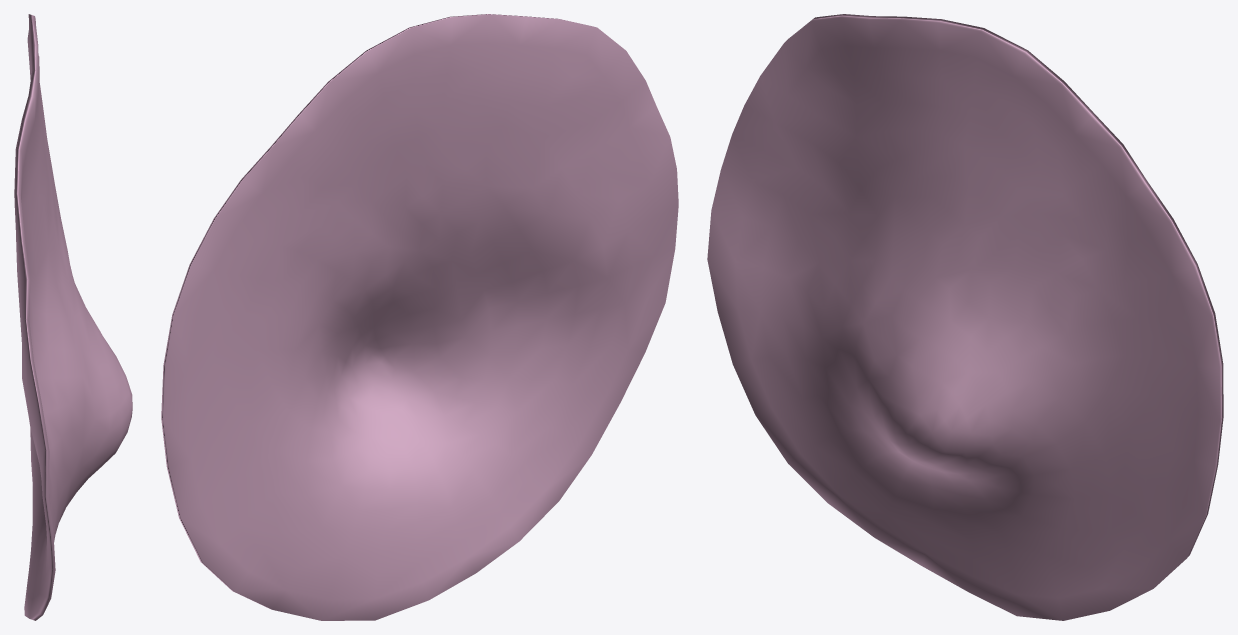
3 views of the same model, side by side, from view 1: azimuth 30°, elevation 25°; view 2: azimuth 150°, elevation 25°; view 3: azimuth 270°, elevation 25° (orthographic). The views are drawn at different scales.
Visible parts, largest first — view 1: 右侧鼓膜; view 2: 右侧鼓膜; view 3: 右侧鼓膜.
Boxes of the visible parts, <box> form: 右侧鼓膜: <box>14,14,132,620</box>; 右侧鼓膜: <box>161,14,678,620</box>; 右侧鼓膜: <box>707,14,1223,620</box>.
Size of the model in its own units: 0.00732 by 0.0155 by 0.0125.
